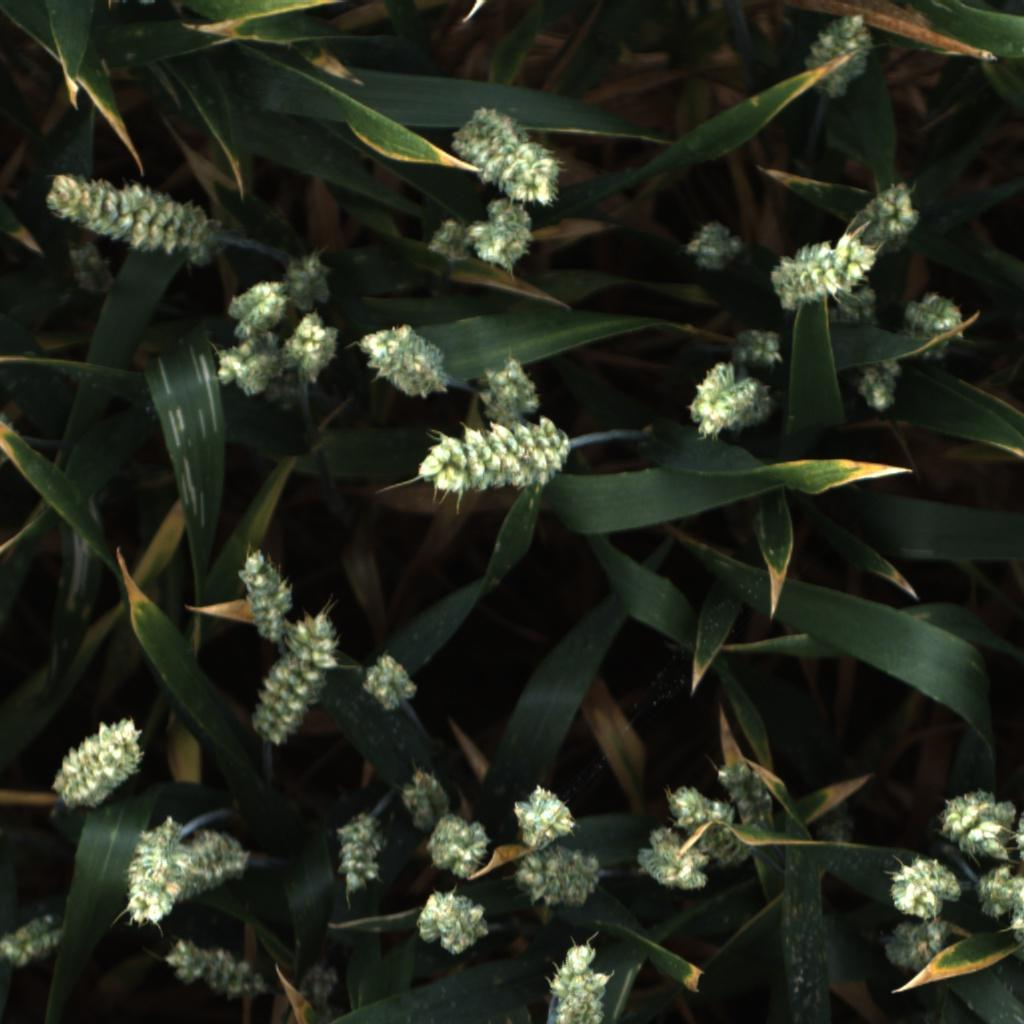0-0: (41, 168, 207, 257), (245, 606, 342, 749), (416, 417, 584, 499), (448, 103, 572, 209), (767, 230, 879, 316), (48, 714, 145, 813), (116, 814, 191, 933), (355, 316, 453, 403), (662, 779, 757, 868), (530, 937, 621, 1024), (685, 363, 778, 446), (162, 933, 269, 1003), (233, 542, 300, 645), (802, 12, 876, 103), (170, 824, 250, 907), (410, 882, 493, 960), (507, 849, 604, 912), (934, 788, 1016, 862), (462, 193, 535, 270), (634, 824, 711, 894), (329, 811, 388, 898), (716, 757, 779, 838), (473, 352, 549, 419), (888, 854, 963, 920), (510, 782, 580, 851), (425, 814, 493, 883), (216, 332, 286, 398), (356, 648, 426, 714), (279, 316, 342, 388), (863, 170, 922, 246), (222, 278, 290, 343), (278, 247, 338, 319), (677, 215, 747, 276), (882, 917, 953, 976), (899, 289, 968, 344), (398, 764, 455, 830), (0, 912, 64, 969), (851, 356, 907, 420), (726, 322, 790, 373), (424, 210, 476, 268), (69, 242, 118, 299), (974, 864, 1023, 920), (184, 212, 231, 268), (892, 324, 952, 363), (295, 963, 340, 1013), (261, 367, 306, 412), (832, 286, 879, 327), (0, 410, 24, 470)
